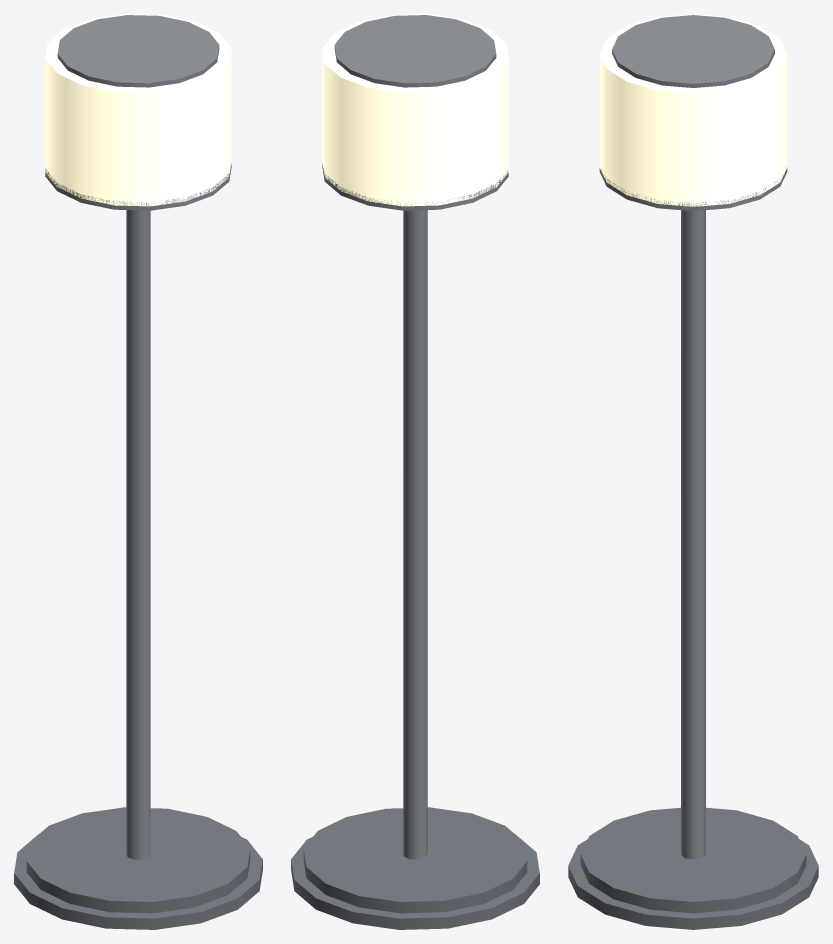
File: lamp_floor.glb
3 views of the same model, side by side, from view 1: azimuth 30°, elevation 25°; view 2: azimuth 150°, elevation 25°; view 3: azimuth 270°, elevation 25° (orthographic).
Visible parts, largest first — view 1: shade, base, pole, shade_rim_top, base_rim, shade_rim_bot; view 2: shade, base, pole, shade_rim_top, base_rim, shade_rim_bot; view 3: shade, base, pole, shade_rim_top, base_rim, shade_rim_bot.
Boxes of the visible parts, left/top/right/bottom form: shade: left=45, top=14, right=231, bottom=206; base: left=26, top=807, right=250, bottom=913; pole: left=126, top=210, right=150, bottom=859; shade_rim_top: left=57, top=15, right=219, bottom=87; base_rim: left=14, top=834, right=262, bottom=929; shade_rim_bot: left=45, top=163, right=231, bottom=210; shade: left=322, top=14, right=508, bottom=206; base: left=303, top=807, right=527, bottom=913; pole: left=403, top=210, right=427, bottom=859; shade_rim_top: left=334, top=15, right=496, bottom=87; base_rim: left=291, top=834, right=539, bottom=929; shade_rim_bot: left=322, top=164, right=508, bottom=210; shade: left=599, top=14, right=787, bottom=206; base: left=580, top=807, right=806, bottom=913; pole: left=681, top=210, right=705, bottom=859; shade_rim_top: left=612, top=15, right=774, bottom=87; base_rim: left=568, top=839, right=818, bottom=929; shade_rim_bot: left=599, top=168, right=787, bottom=211.
Size of the model in its own units: 0.4 by 1.46 by 0.4.
